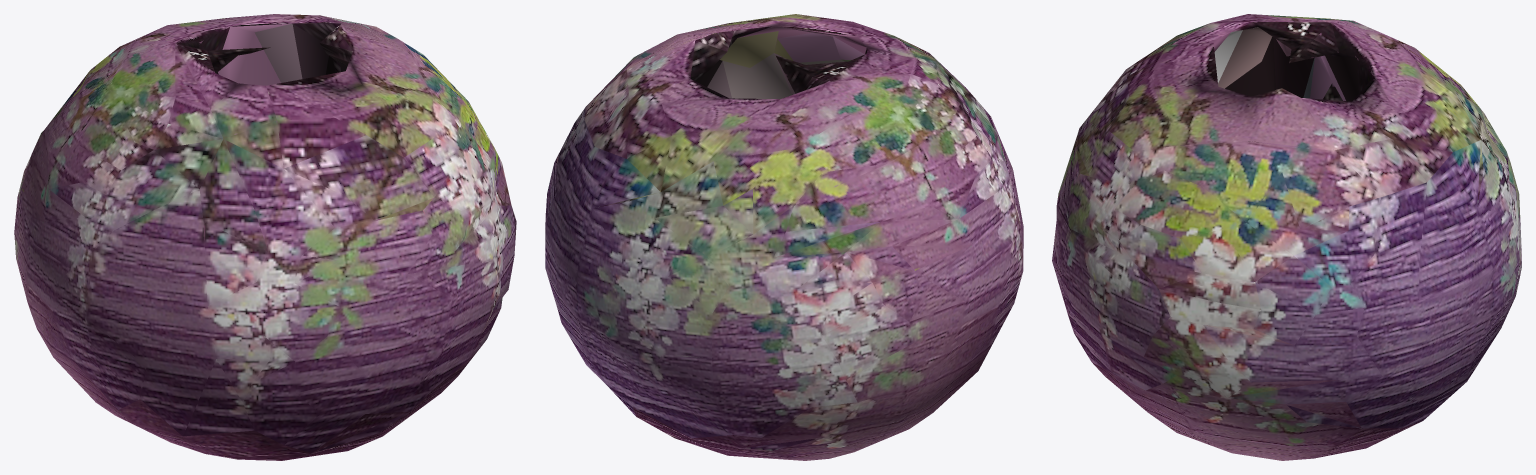
File: AT4 Felix Wisterias.glb
3 views of the same model, side by side, from view 1: azimuth 30°, elevation 25°; view 2: azimuth 150°, elevation 25°; view 3: azimuth 270°, elevation 25° (orthographic). The views are drawn at different scales.
Bounding box in the file's own units: 1000 × 871 × 985.
Materials: 1 (1 with a texture image).
